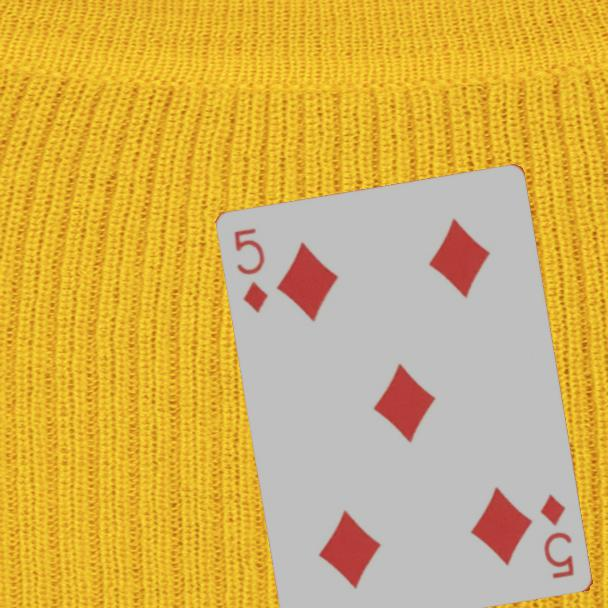d05: (538, 491, 578, 582), (231, 225, 271, 316)
